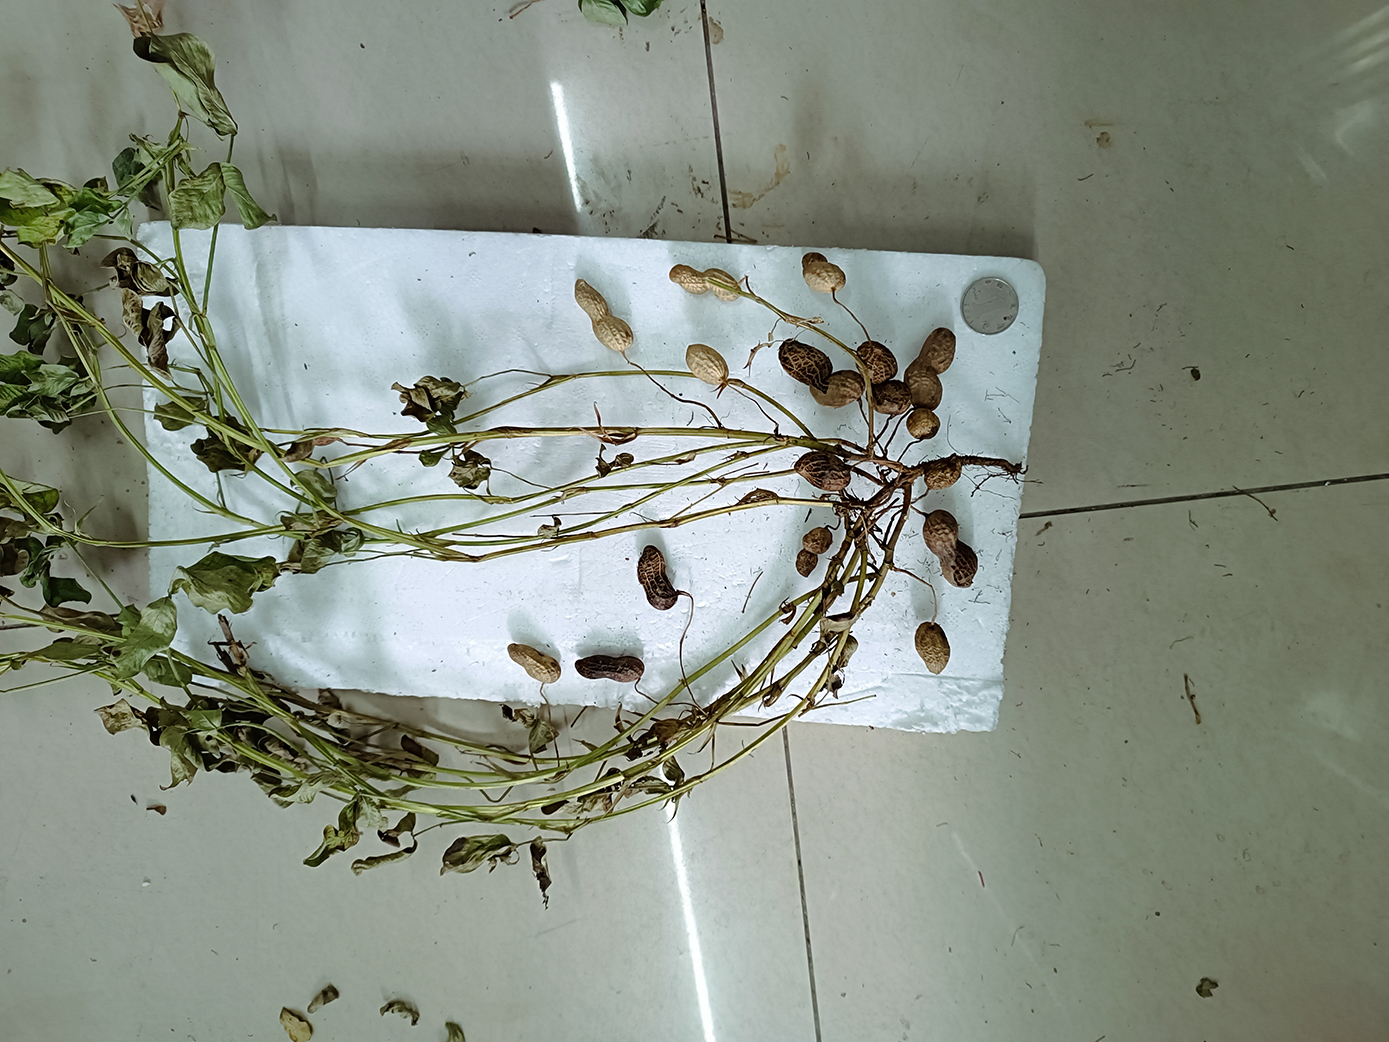h: (574, 278, 634, 352), (904, 326, 956, 410), (669, 263, 742, 302), (507, 642, 562, 684), (801, 251, 845, 293), (685, 343, 728, 385), (907, 409, 941, 440)
l: (778, 338, 865, 408), (922, 509, 979, 589), (857, 341, 911, 414), (637, 545, 679, 611), (794, 451, 850, 493), (914, 621, 951, 675), (574, 655, 645, 683), (795, 526, 833, 578), (923, 461, 962, 490)
